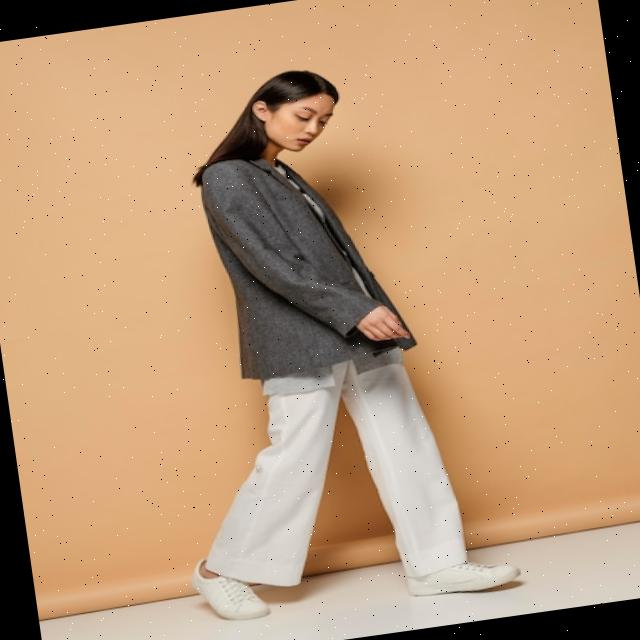Person: (122, 50, 518, 630)
